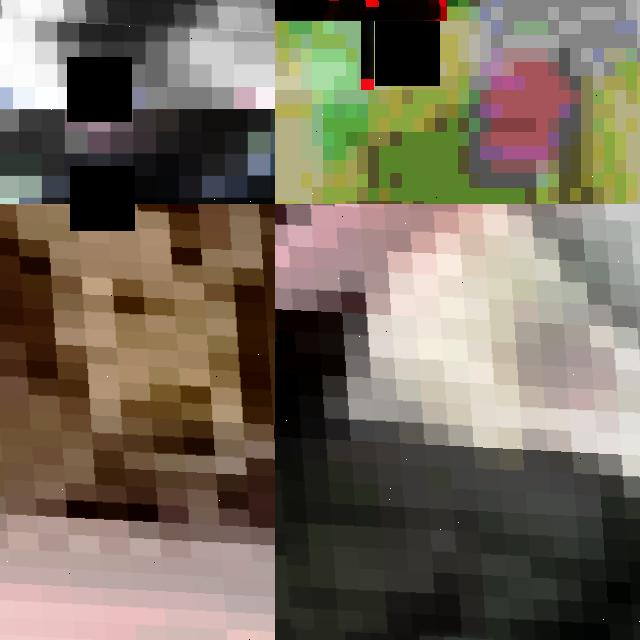arms: (275, 204, 640, 640), (0, 204, 275, 640), (0, 0, 275, 43), (292, 0, 445, 20)
